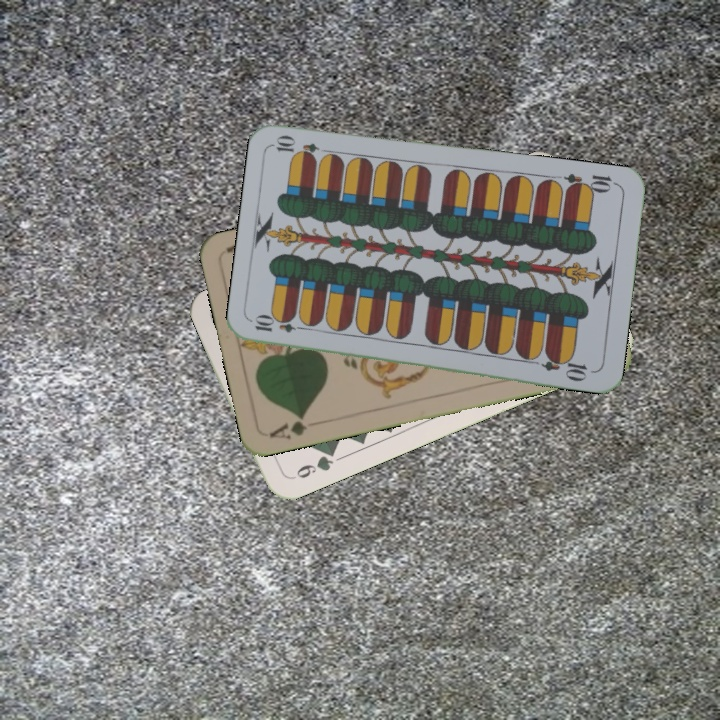E10: (561, 169, 620, 197), (250, 315, 310, 335)
G9: (285, 446, 338, 483)
GA: (265, 411, 310, 442)
